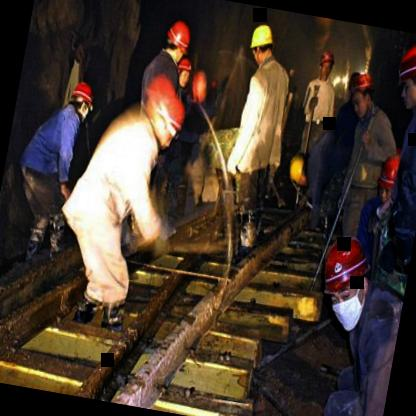helmet: (310, 226, 382, 326), (138, 86, 190, 156), (372, 146, 408, 208), (389, 34, 416, 113), (158, 16, 196, 68), (245, 19, 278, 70), (62, 78, 98, 122), (284, 150, 316, 193), (348, 68, 376, 110), (311, 48, 338, 86), (172, 52, 196, 90)
